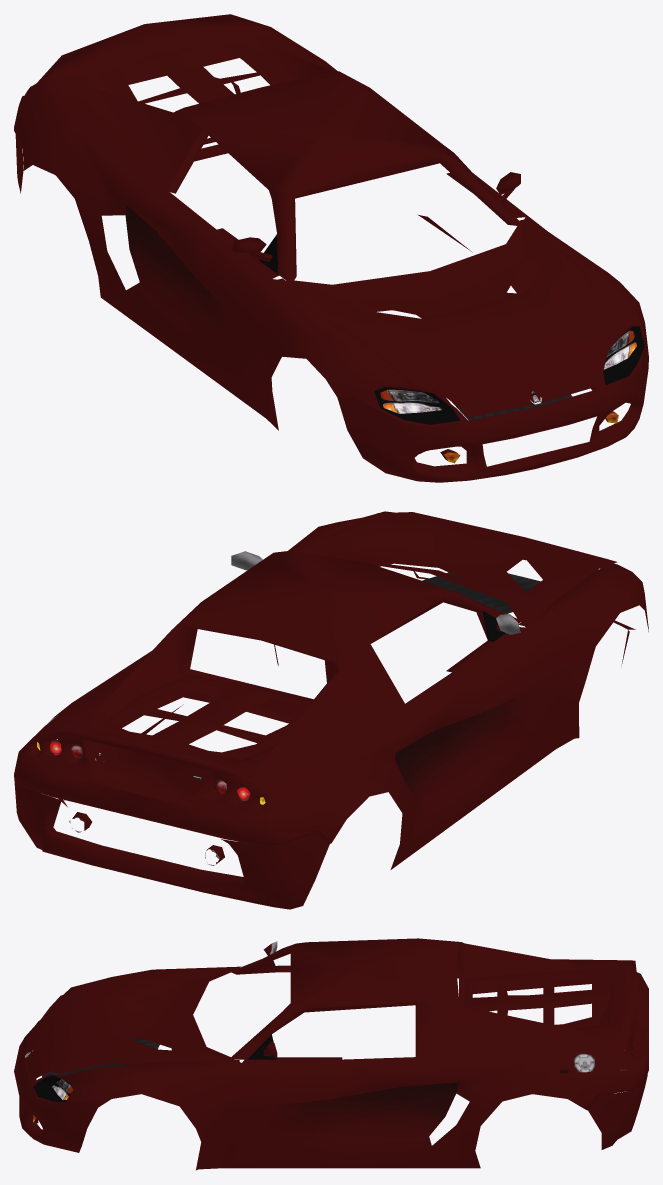
The model's file is car-SPRT_Car13.glb.
3 renders of one model, top to bottom at view 1: azimuth 30°, elevation 25°; view 2: azimuth 150°, elevation 25°; view 3: azimuth 270°, elevation 25°, orthographic. The views are drawn at different scales.
Parts seen in each view (by area): view 1: SPRT_Car13; view 2: SPRT_Car13; view 3: SPRT_Car13.
Part boxes in pixels (bbox=[...]): SPRT_Car13: bbox=[14, 14, 648, 482]; SPRT_Car13: bbox=[14, 511, 648, 909]; SPRT_Car13: bbox=[14, 938, 648, 1170].
Size of the model in its own units: 1.9 by 1.08 by 4.28.
Materials: 5 (5 with a texture image).
